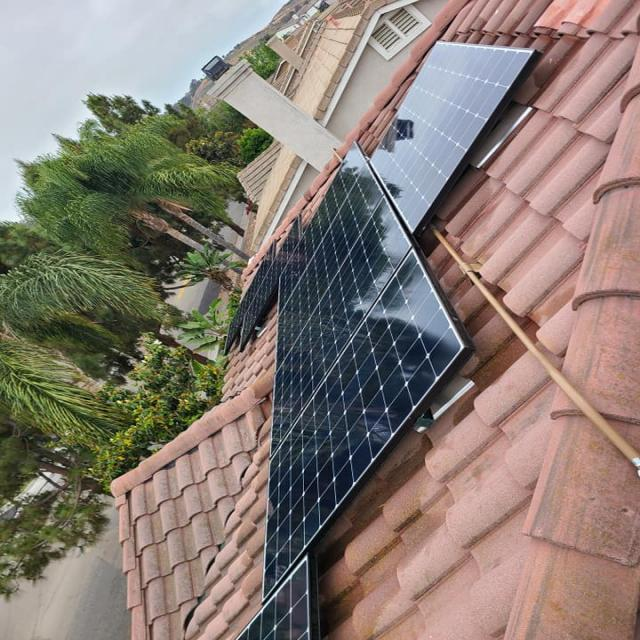no faulty: (262, 252, 462, 597), (271, 199, 407, 458), (368, 42, 529, 226), (274, 165, 383, 373), (278, 140, 367, 316), (239, 214, 305, 348), (235, 560, 312, 640)
